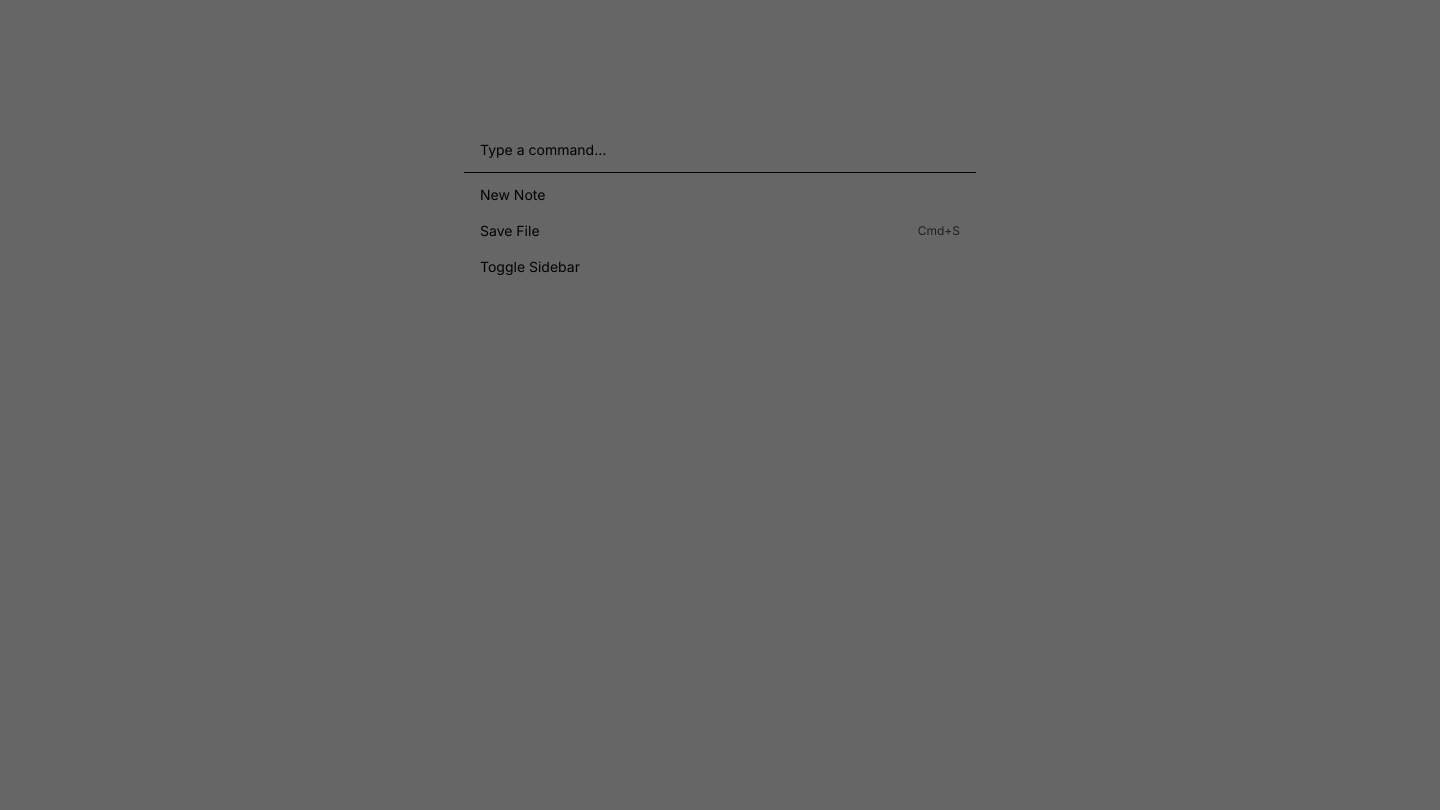
it: CommandPalette › shows no commands found message when nothing matches
In the field: {"x": 720, "y": 150} [464, 128, 976, 173], type "xyzzy"
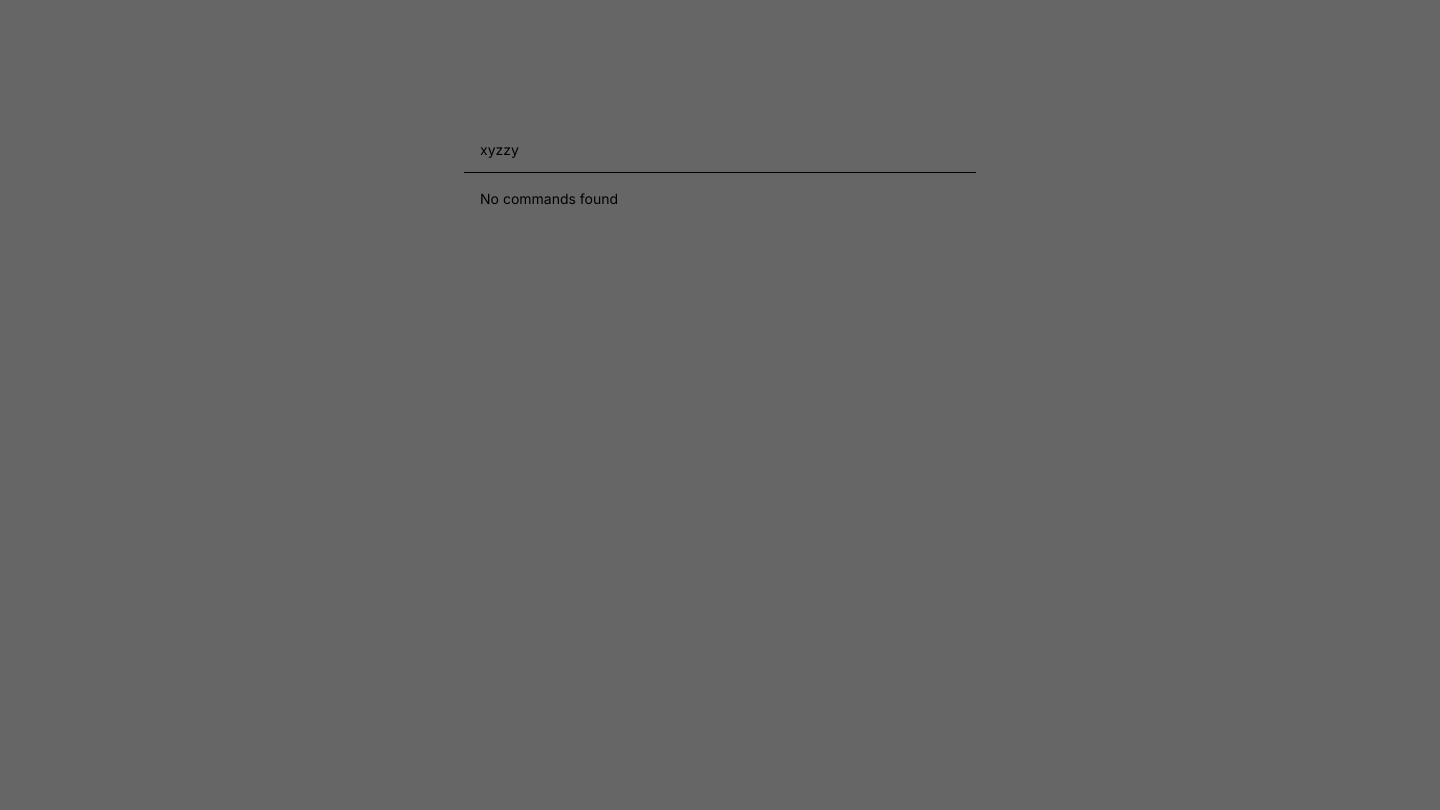
Check: the list item "No commands found" is shown, box [480, 190, 618, 207]
